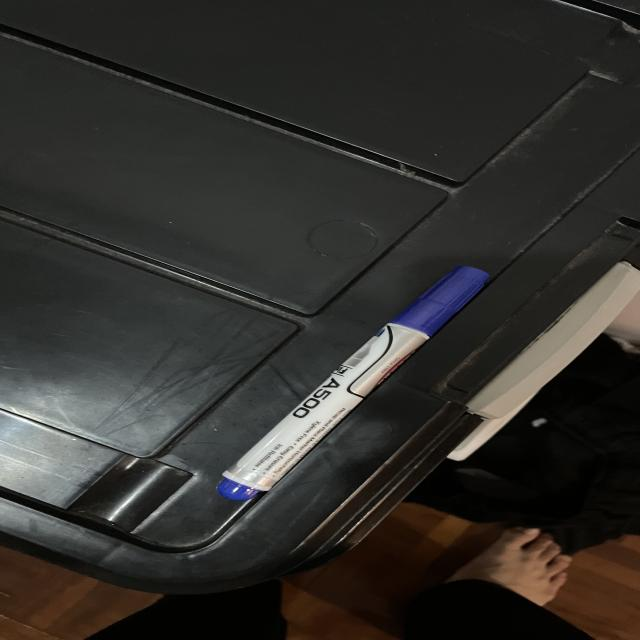marker: (217, 266, 490, 501)
